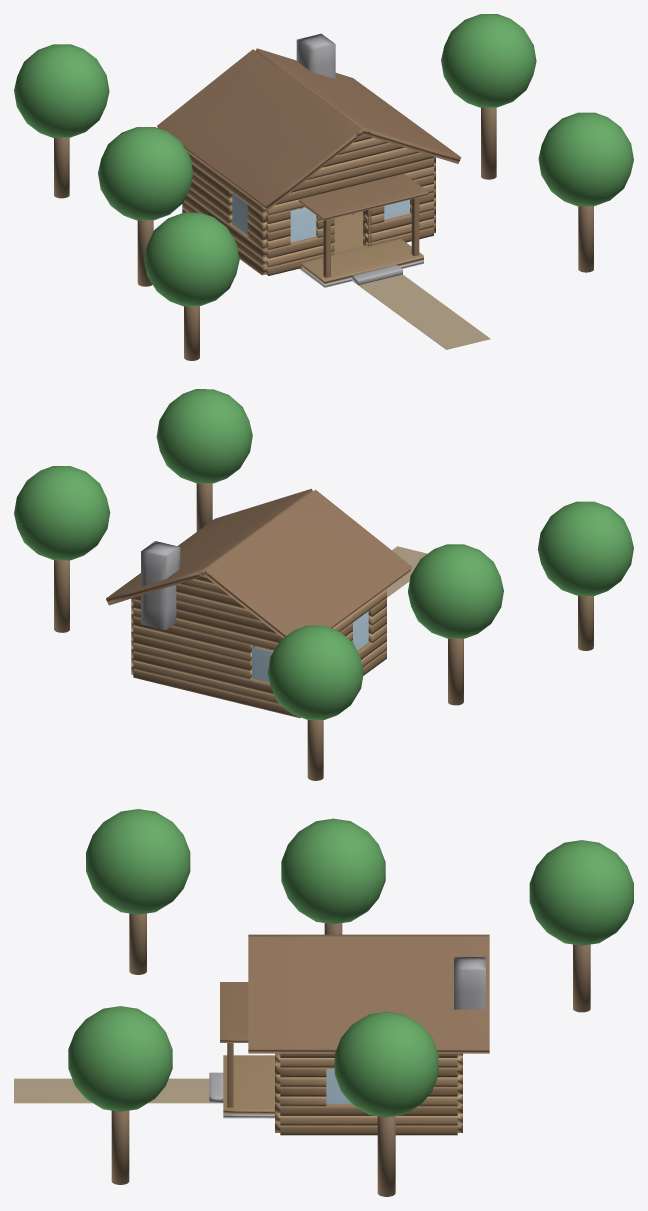
The model's file is cabana_1_troncos_clasica.glb.
3 views of the same model, one above another, from view 1: azimuth 30°, elevation 25°; view 2: azimuth 150°, elevation 25°; view 3: azimuth 270°, elevation 25° (orthographic). The views are drawn at different scales.
Visible parts, largest first — view 1: TechoIzq, Arbol4_Copa, Arbol5_Copa, Arbol1_Copa, Arbol3_Copa, Arbol2_Copa, Muro (×8), TechoDer, Camino, TechoPorche, Fronton (×3), Porche (+10 smaller); view 2: TechoIzq, Muro (×9), Arbol4_Copa, Arbol1_Copa, Arbol2_Copa, Arbol5_Copa, Arbol3_Copa, TechoDer, Chimenea, Fronton (×3), Arbol2_Tronco, Arbol1_Tronco (+5 smaller); view 3: TechoDer, Arbol3_Copa, Arbol5_Copa, Arbol1_Copa, Arbol2_Copa, Arbol4_Copa, Muro (×4), Camino, Porche, TechoPorche, Chimenea, Arbol2_Tronco (+5 smaller).
Boxes of the visible parts, x1,y1,x2,y2 form: TechoIzq: (157, 49, 363, 210); Arbol4_Copa: (538, 112, 633, 206); Arbol5_Copa: (144, 212, 239, 306); Arbol1_Copa: (98, 127, 193, 220); Arbol3_Copa: (14, 44, 109, 137); Arbol2_Copa: (441, 14, 536, 107); Muro (×8): (184, 151, 433, 267); TechoDer: (255, 48, 461, 163); Camino: (352, 274, 490, 349); TechoPorche: (299, 173, 428, 220); Fronton (×3): (291, 143, 433, 192); Porche: (301, 239, 423, 283); TechoIzq: (203, 489, 412, 637); Muro (×9): (133, 599, 300, 718); Arbol4_Copa: (156, 389, 252, 483); Arbol1_Copa: (408, 544, 503, 638); Arbol2_Copa: (14, 466, 110, 560); Arbol5_Copa: (537, 501, 633, 595); Arbol3_Copa: (267, 625, 363, 719); TechoDer: (106, 488, 312, 605); Chimenea: (141, 541, 180, 630); Fronton (×3): (133, 584, 277, 634); Arbol2_Tronco: (54, 560, 69, 632); Arbol1_Tronco: (448, 638, 463, 705); TechoDer: (248, 936, 489, 1053); Arbol3_Copa: (529, 840, 633, 945); Arbol5_Copa: (86, 809, 190, 914); Arbol1_Copa: (281, 818, 385, 924); Arbol2_Copa: (334, 1011, 438, 1117); Arbol4_Copa: (68, 1006, 172, 1111); Muro (×4): (280, 1058, 457, 1135); Camino: (14, 1078, 222, 1103); Porche: (223, 1055, 274, 1114); TechoPorche: (220, 982, 248, 1042); Chimenea: (454, 957, 485, 1009); Arbol2_Tronco: (377, 1116, 395, 1196).
Size of what is drawn, in the model's own units: 1.15 by 0.3555 by 1.14.
